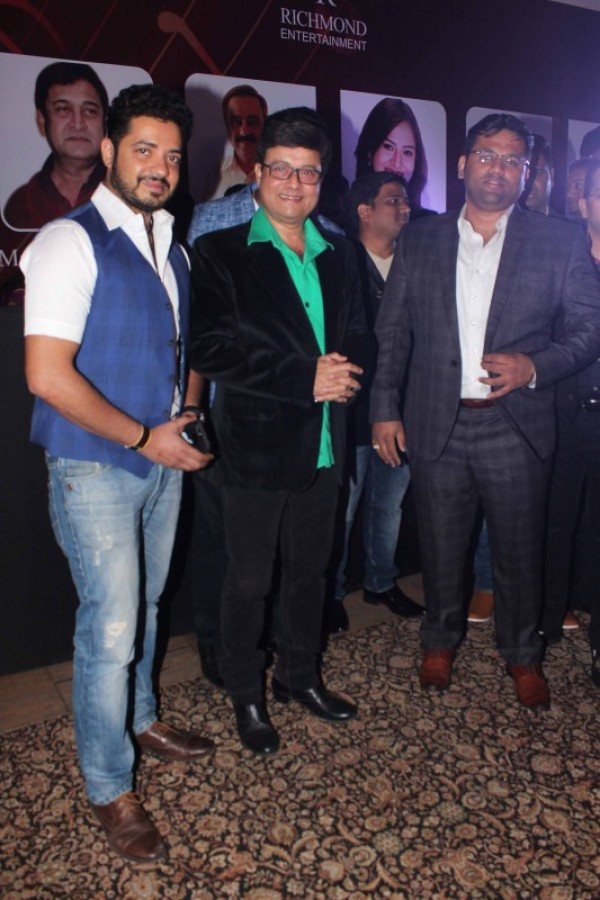bad: (121, 130, 196, 204), (467, 142, 529, 205), (45, 94, 107, 156), (266, 149, 328, 211), (371, 136, 423, 188), (223, 108, 266, 151), (376, 185, 419, 228)
